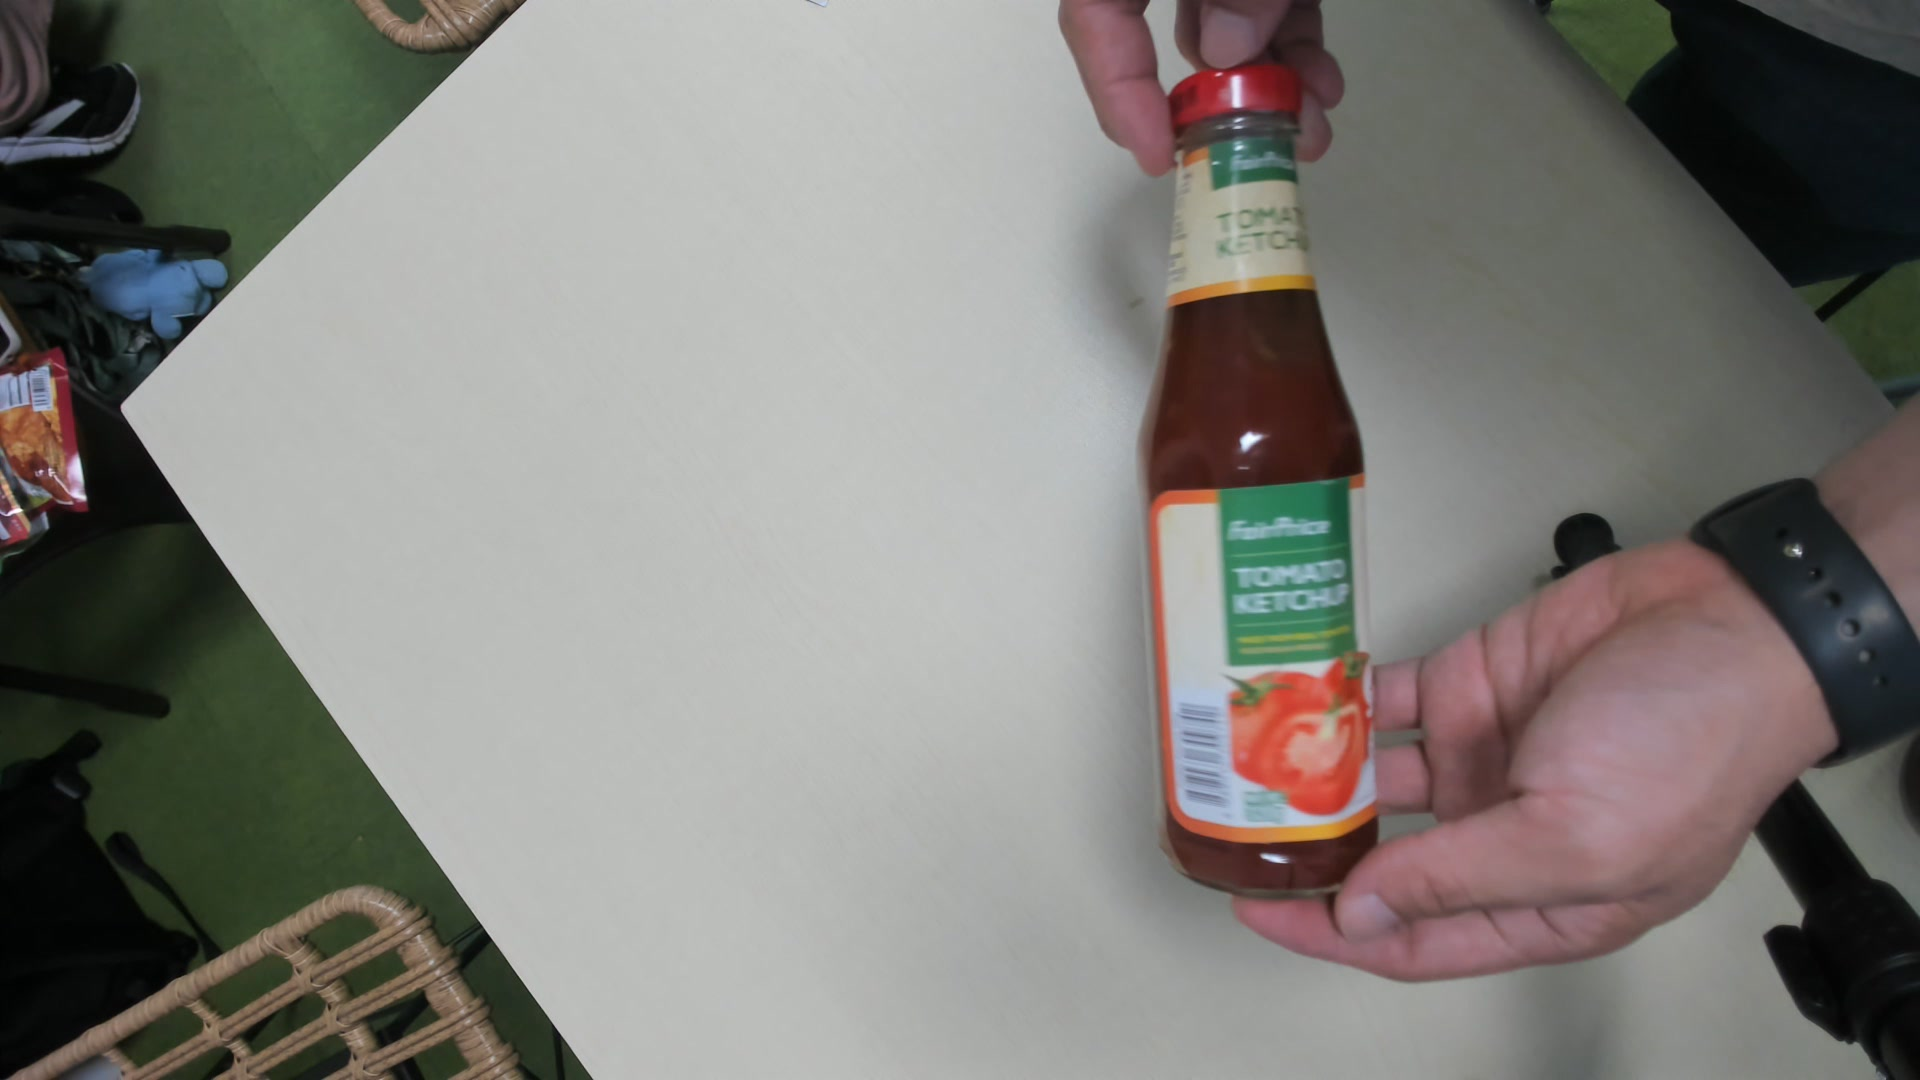KetchupChillSauce_300-399g_Halal_Healthy: (1127, 63, 1387, 913)
